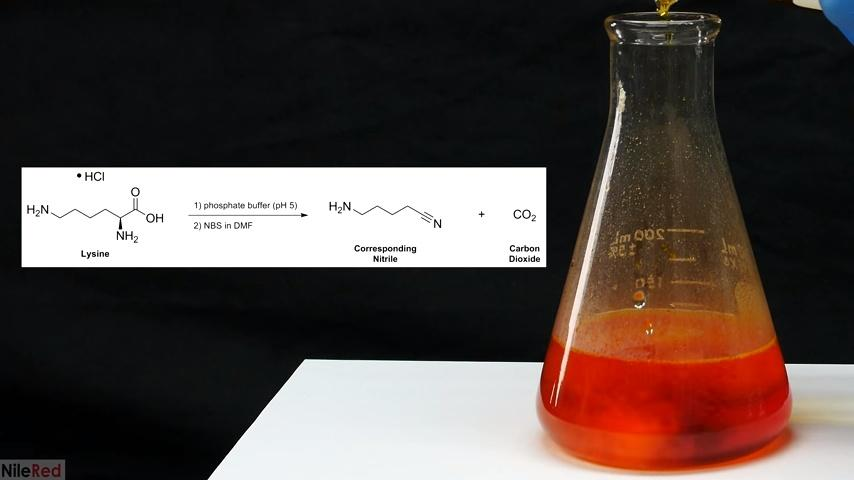Titrarion: (531, 13, 803, 474)
